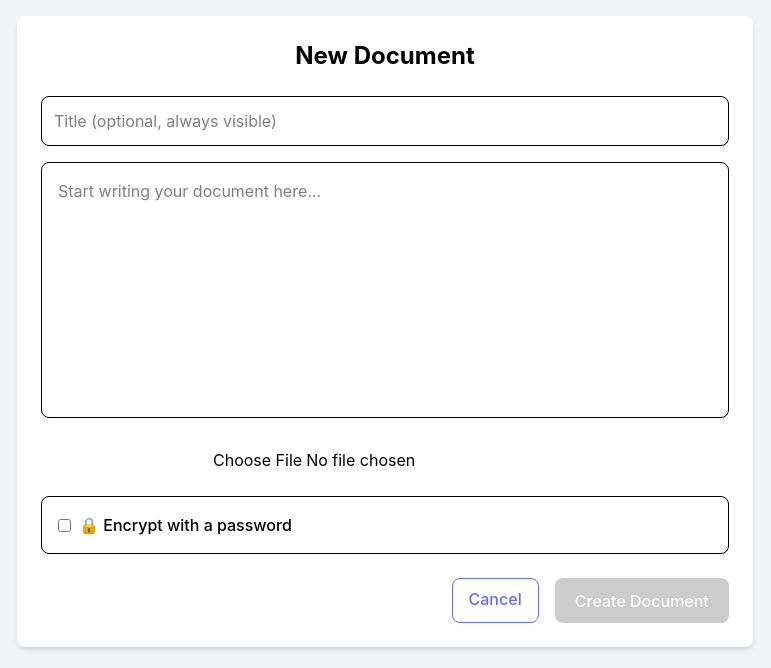
Scenario: DocumentEditor › enables submit button when content is provided
This screenshot has width=771, height=668.
Step 1. Type "Some content" into the text box with placeholder "Start writing your document here..." → [385, 290], box [41,162,729,418]
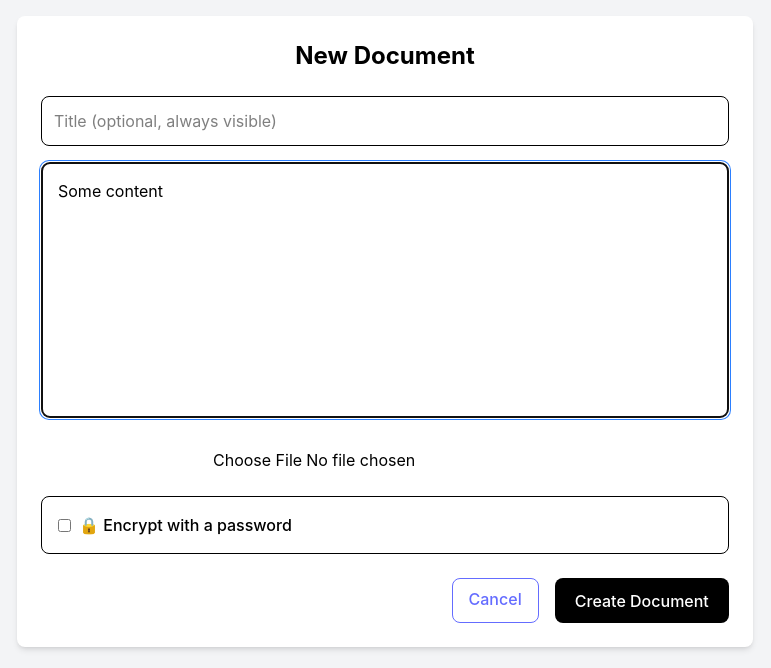
Now the button "Create Document" is enabled, box [555,578,729,623]
